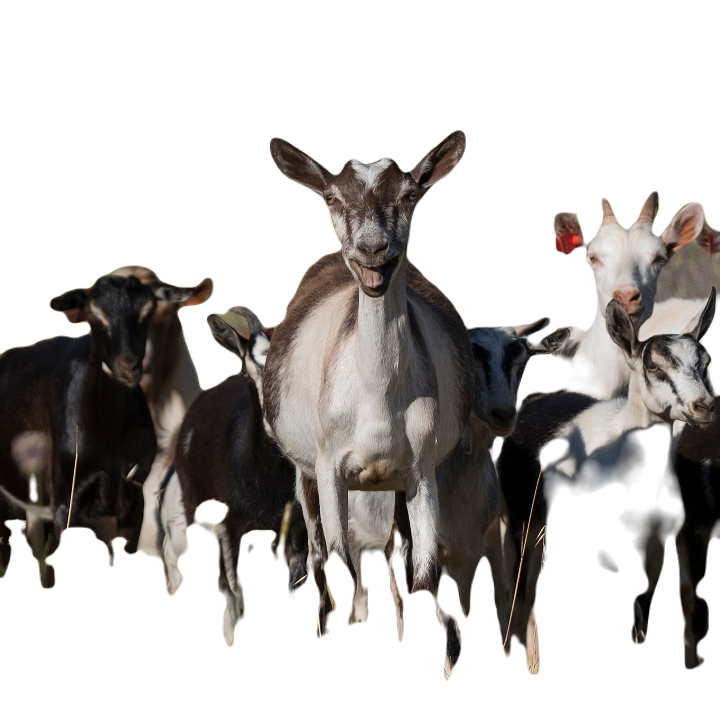Goat: (258, 125, 473, 648)
